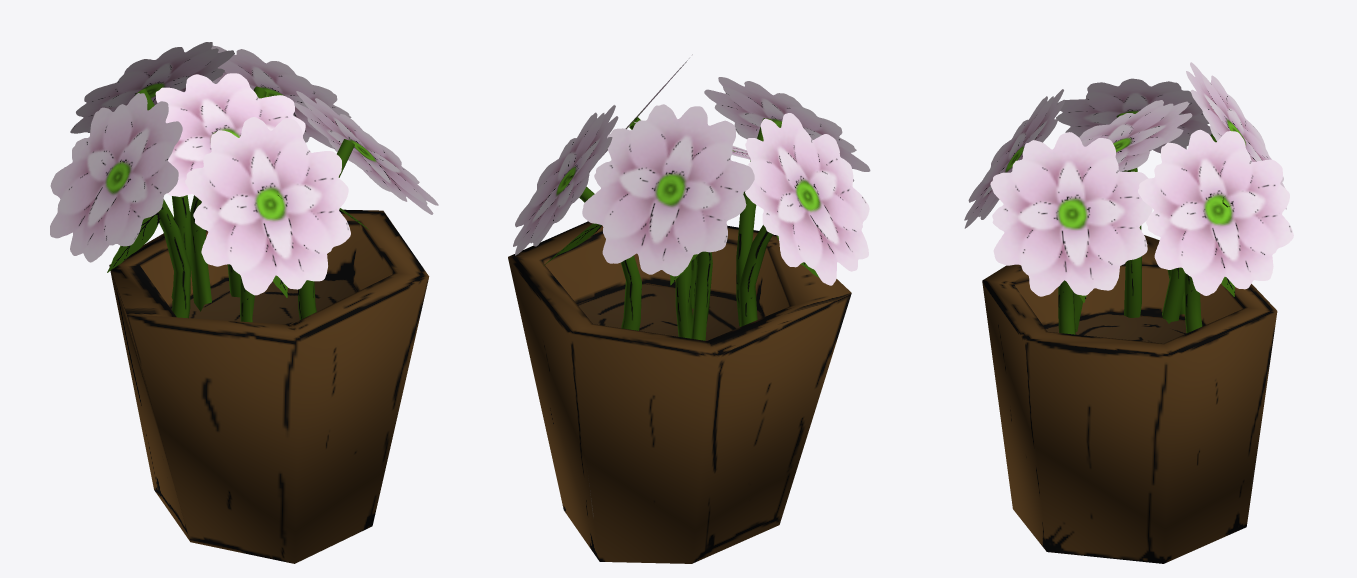
The model's file is Flower_pot.fbx.
The picture shows the model from 3 angles, left to right: view 1: azimuth 30°, elevation 25°; view 2: azimuth 150°, elevation 25°; view 3: azimuth 270°, elevation 25°; orthographic projection. The views are drawn at different scales.
Visible parts, largest first — view 1: flower_pot; view 2: flower_pot; view 3: flower_pot.
Boxes of the visible parts, x1,y1,x2,y2 form: flower_pot: (50,42,438,563); flower_pot: (508,54,870,563); flower_pot: (964,62,1293,563).
Bounding box in the file's own units: 41.79 × 54.25 × 44.26.
